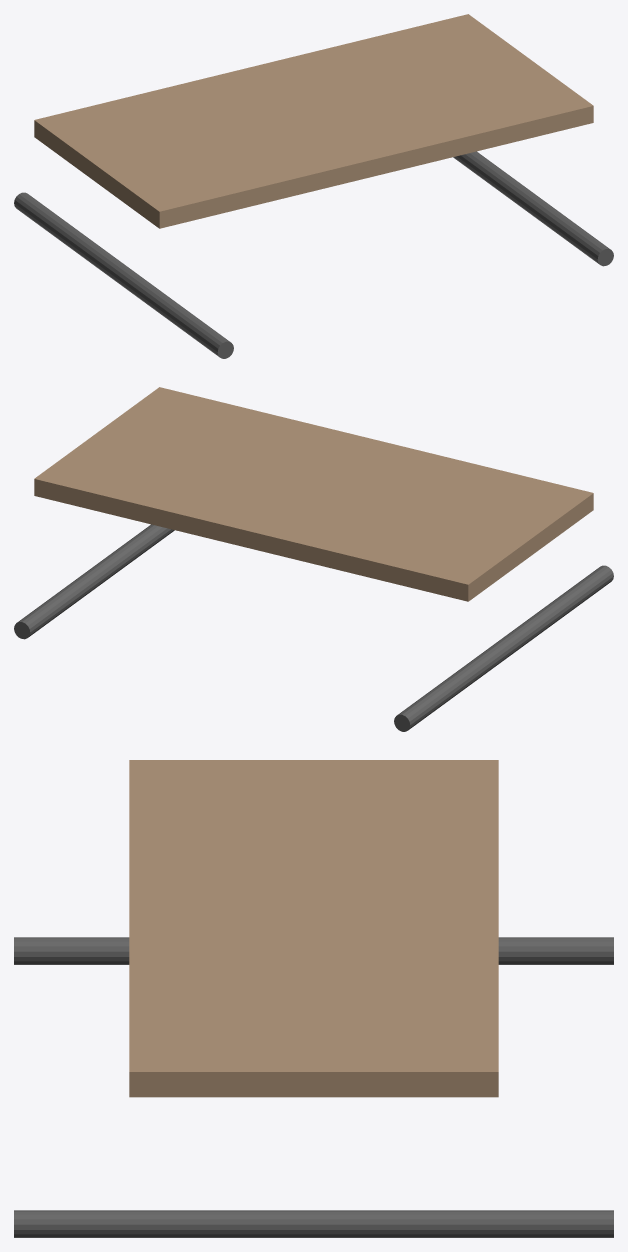
File: mesa.glb
3 views of the same model, one above another, from view 1: azimuth 30°, elevation 25°; view 2: azimuth 150°, elevation 25°; view 3: azimuth 270°, elevation 25° (orthographic). The views are drawn at different scales.
Parts seen in each view (by area): view 1: table_top, leg_2, leg_0, leg_3, leg_1; view 2: table_top, leg_1, leg_0, leg_2, leg_3; view 3: table_top, leg_1, leg_3, leg_0, leg_2.
Boxes of the visible parts, x1=… form: table_top: x1=34, y1=14, x2=593, y2=228; leg_2: x1=108, y1=261, x2=233, y2=358; leg_0: x1=14, y1=192, x2=136, y2=285; leg_3: x1=488, y1=169, x2=613, y2=266; leg_1: x1=453, y1=151, x2=515, y2=195; table_top: x1=34, y1=387, x2=593, y2=601; leg_1: x1=14, y1=541, x2=139, y2=639; leg_0: x1=394, y1=634, x2=519, y2=731; leg_2: x1=496, y1=565, x2=613, y2=661; leg_3: x1=111, y1=524, x2=174, y2=563; table_top: x1=129, y1=760, x2=498, y2=1097; leg_1: x1=291, y1=1210, x2=613, y2=1237; leg_3: x1=14, y1=1210, x2=336, y2=1237; leg_0: x1=498, y1=937, x2=613, y2=964; leg_2: x1=14, y1=937, x2=129, y2=964.
Size of the model in its own units: 1.6 by 0.44 by 1.3.
